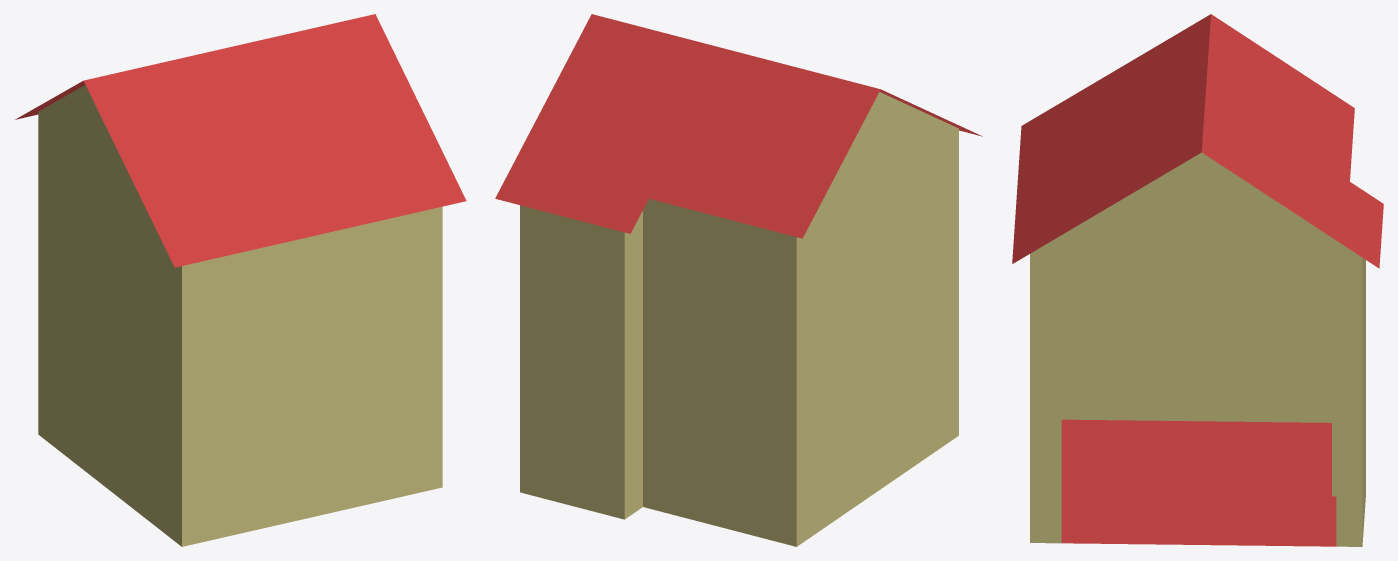
The picture shows the model from 3 angles, left to right: view 1: azimuth 30°, elevation 25°; view 2: azimuth 150°, elevation 25°; view 3: azimuth 270°, elevation 25°; orthographic projection. The views are drawn at different scales.
Size of the model in its own units: 9.68 by 10.64 by 12.64.
